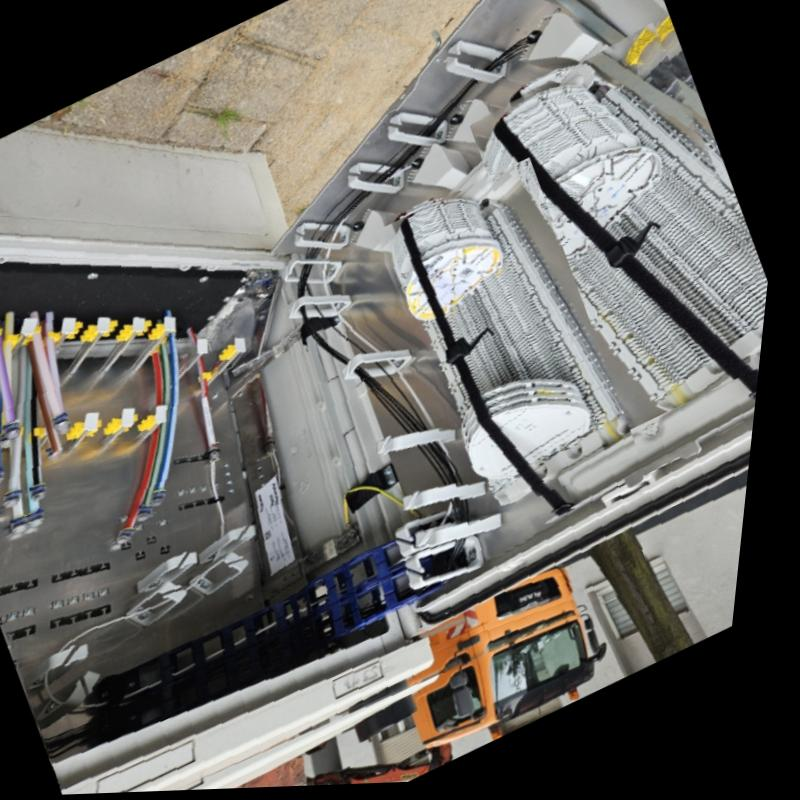NT-Gehause: (0, 0, 775, 796)
Spleiskassetten: (483, 75, 774, 420), (386, 195, 643, 519)
